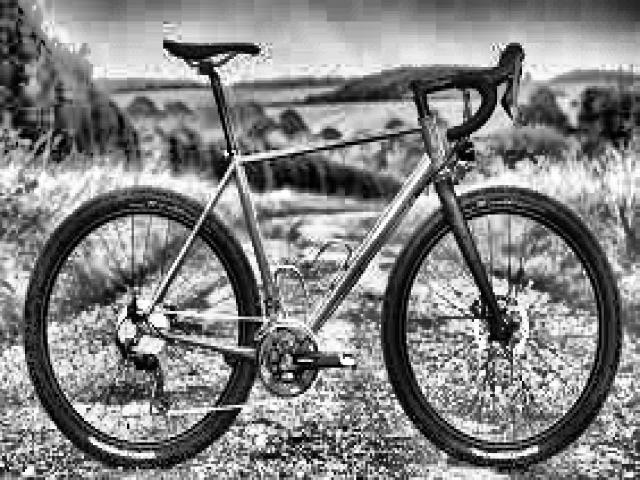cranks_set: (254, 321, 356, 402)
pedal: (339, 348, 358, 369)
rear_derailleur: (119, 343, 175, 417)
saddle: (159, 34, 262, 72)
sti_shifter: (499, 41, 528, 124)
wheel: (380, 185, 623, 469), (22, 188, 264, 466)
